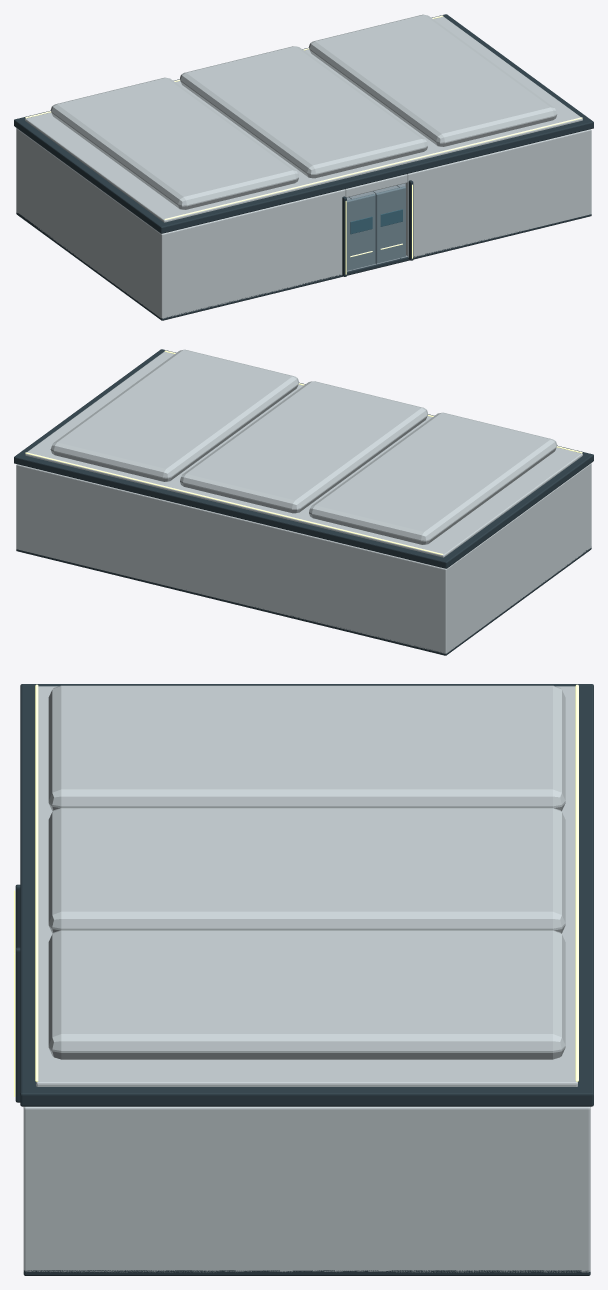
File: habitat-shell.glb
3 renders of one model, top to bottom at view 1: azimuth 30°, elevation 25°; view 2: azimuth 150°, elevation 25°; view 3: azimuth 270°, elevation 25°, orthographic. The views are drawn at different scales.
Parts seen in each view (by area): view 1: Roof_Ivory, Cutaway_Ivory, Roof_Dark, DoorRight_Steel, DoorLeft_Steel, Floor_Dark, Roof_Accent, Cutaway_Dark; view 2: Roof_Ivory, Back_Ivory, Cutaway_Ivory, Roof_Dark, Floor_Dark, Roof_Accent; view 3: Roof_Ivory, Cutaway_Ivory, Roof_Dark, Floor_Dark, Roof_Accent, Back_Ivory, Cutaway_Dark.
Part boxes in pixels (bbox=[...]): Roof_Ivory: bbox=[25, 14, 582, 222]; Cutaway_Ivory: bbox=[18, 129, 591, 318]; Roof_Dark: bbox=[14, 14, 593, 233]; DoorRight_Steel: bbox=[375, 186, 405, 263]; DoorLeft_Steel: bbox=[347, 194, 375, 270]; Floor_Dark: bbox=[16, 186, 591, 320]; Roof_Accent: bbox=[25, 15, 582, 219]; Cutaway_Dark: bbox=[342, 180, 413, 276]; Roof_Ivory: bbox=[25, 349, 582, 557]; Back_Ivory: bbox=[16, 464, 448, 653]; Cutaway_Ivory: bbox=[442, 463, 591, 652]; Roof_Dark: bbox=[14, 349, 593, 568]; Floor_Dark: bbox=[16, 547, 591, 655]; Roof_Accent: bbox=[25, 350, 582, 554]; Roof_Ivory: bbox=[36, 685, 577, 1086]; Cutaway_Ivory: bbox=[23, 1106, 589, 1272]; Roof_Dark: bbox=[20, 684, 593, 1106]; Floor_Dark: bbox=[23, 1270, 590, 1275]; Roof_Accent: bbox=[35, 684, 578, 1081]; Back_Ivory: bbox=[581, 1106, 590, 1272]; Cutaway_Dark: bbox=[15, 884, 20, 1102].
Size of the model in its own units: 17.47 by 4.23 by 10.43.
